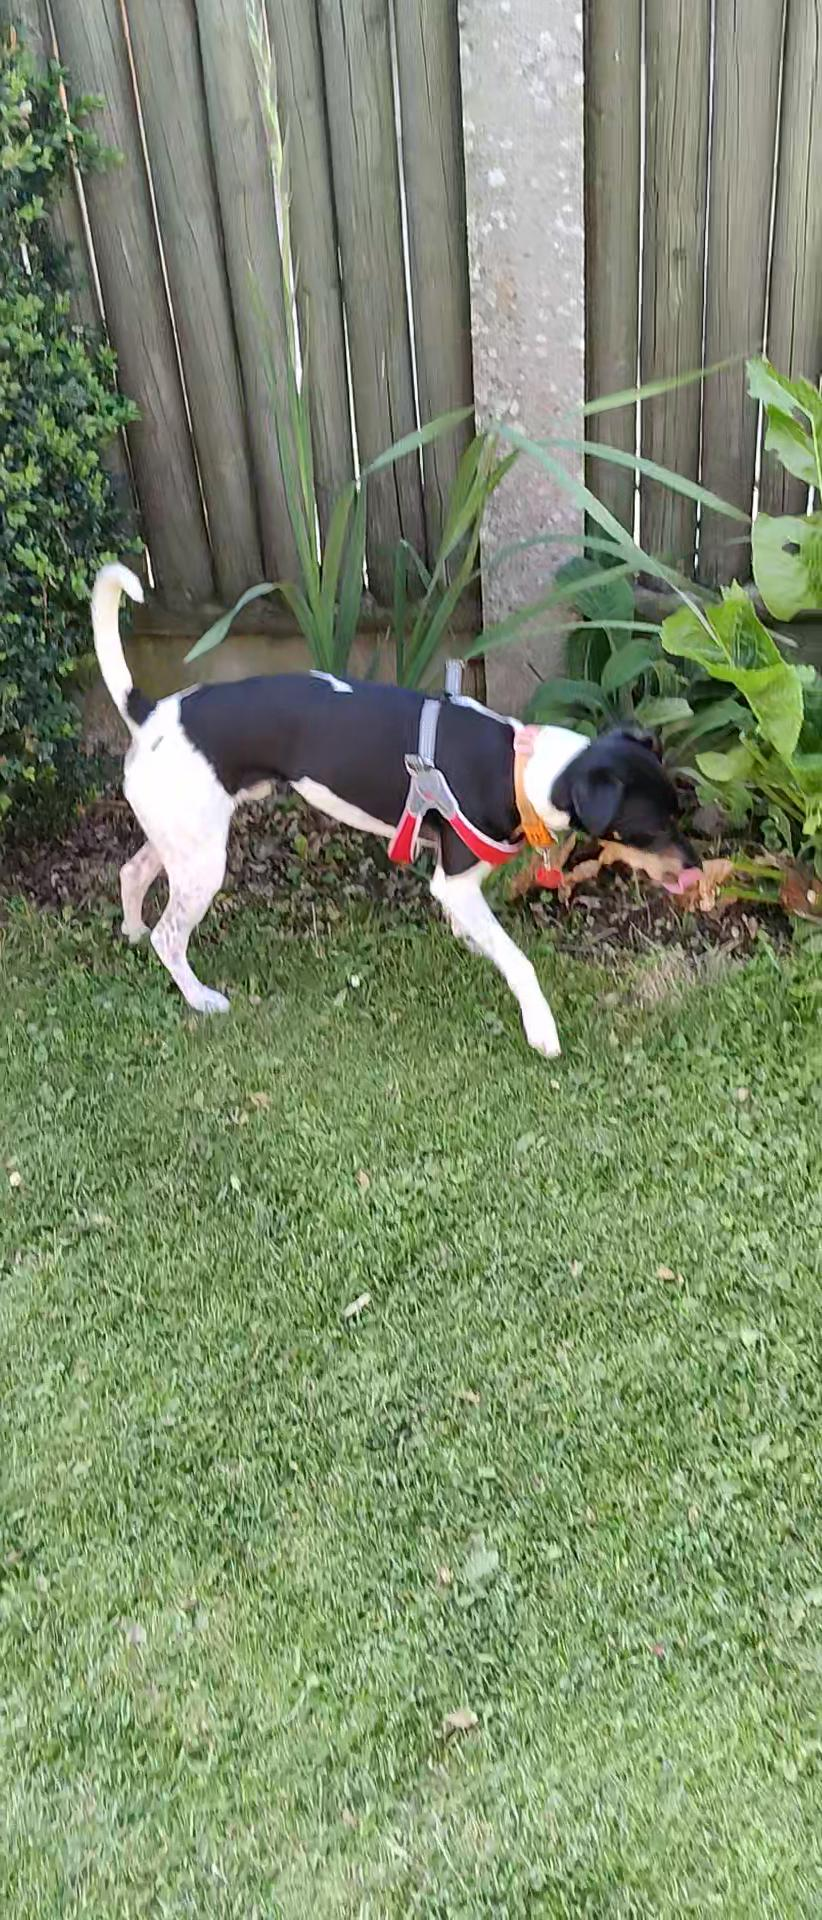Dog: (67, 531, 711, 1067)
